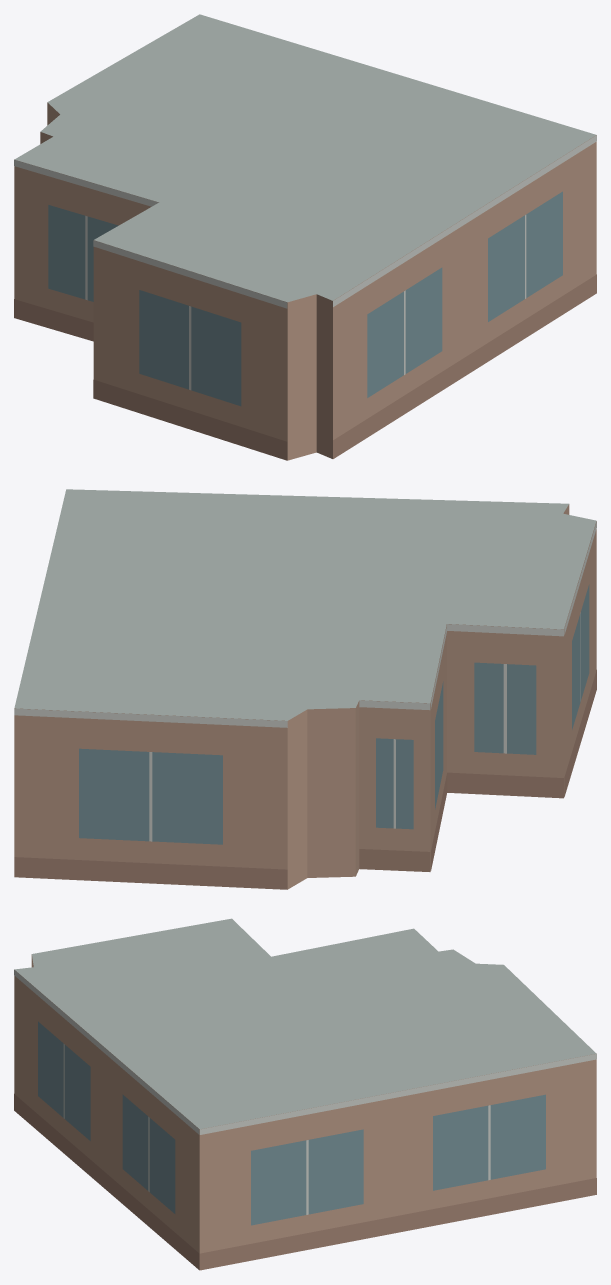
Rendered from survey-upis-32538621.glb.
3 views of the same model, one above another, from view 1: azimuth 30°, elevation 25°; view 2: azimuth 150°, elevation 25°; view 3: azimuth 270°, elevation 25° (orthographic). The views are drawn at different scales.
Visible parts, largest first — view 1: survey-upis-32538621.tmp; view 2: survey-upis-32538621.tmp; view 3: survey-upis-32538621.tmp.
Part boxes in pixels (left/top/right/bottom): survey-upis-32538621.tmp: left=14, top=14, right=596, bottom=460; survey-upis-32538621.tmp: left=14, top=489, right=596, bottom=889; survey-upis-32538621.tmp: left=14, top=918, right=596, bottom=1270.
Size of the model in its own units: 9.79 by 3.05 by 11.43.
